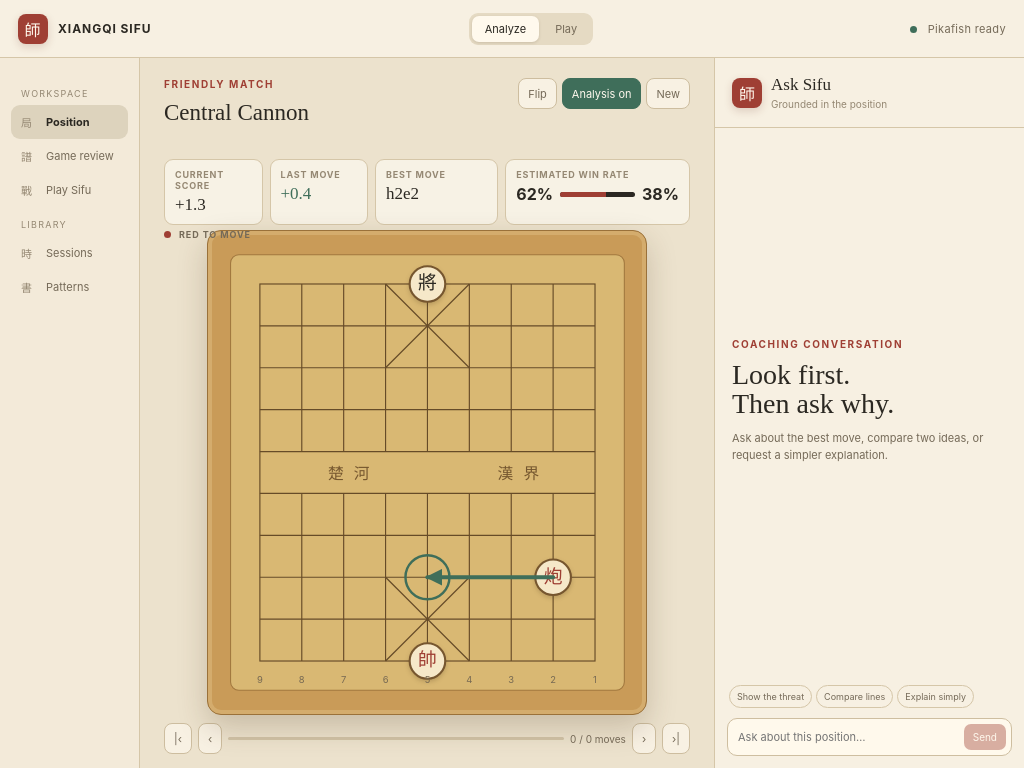
Test: analysis toggle never removes the coaching panel
The image size is (1024, 768).
Expected: the text "+1.3" is shown, [175,195,206,214]
Expected: the element with test id "analysis-slot" is shown, [164,146,690,222]
What coordinates should you click on to do the following:
click the button "Analysis on"
I would click on:
 (602, 94)
Its box is [562,78,641,109].
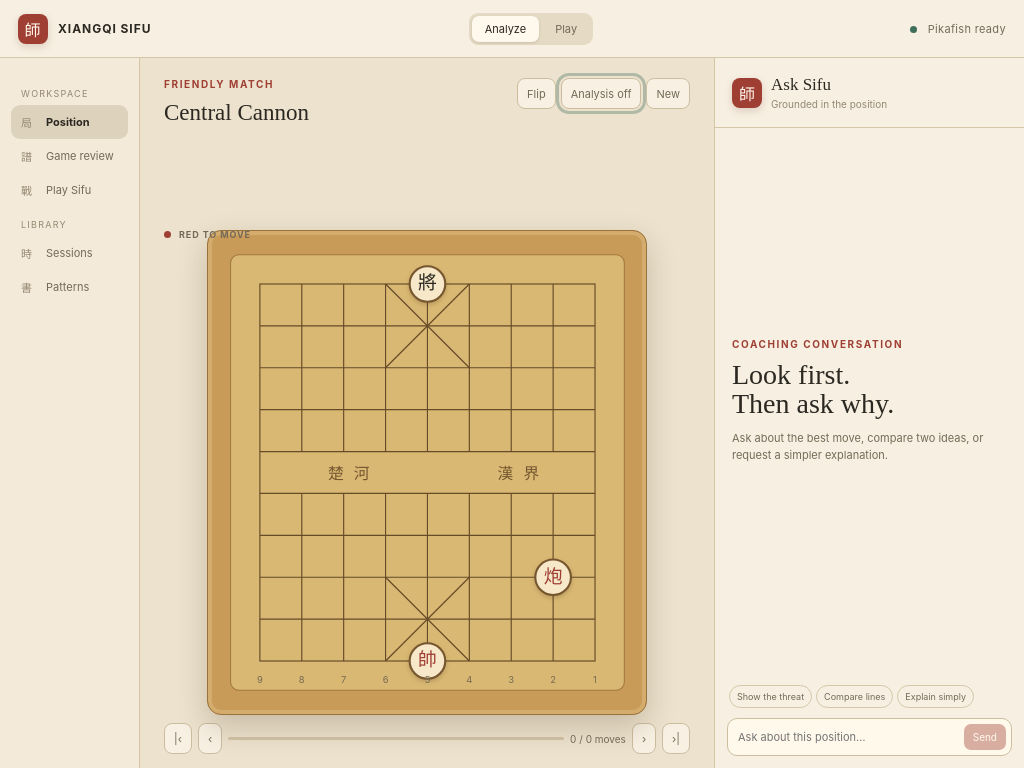
Expected: the element "Ask Sifu" is shown, [714,58,1023,767]
Expected: the button "Analysis off" is shown, [561,78,641,109]
